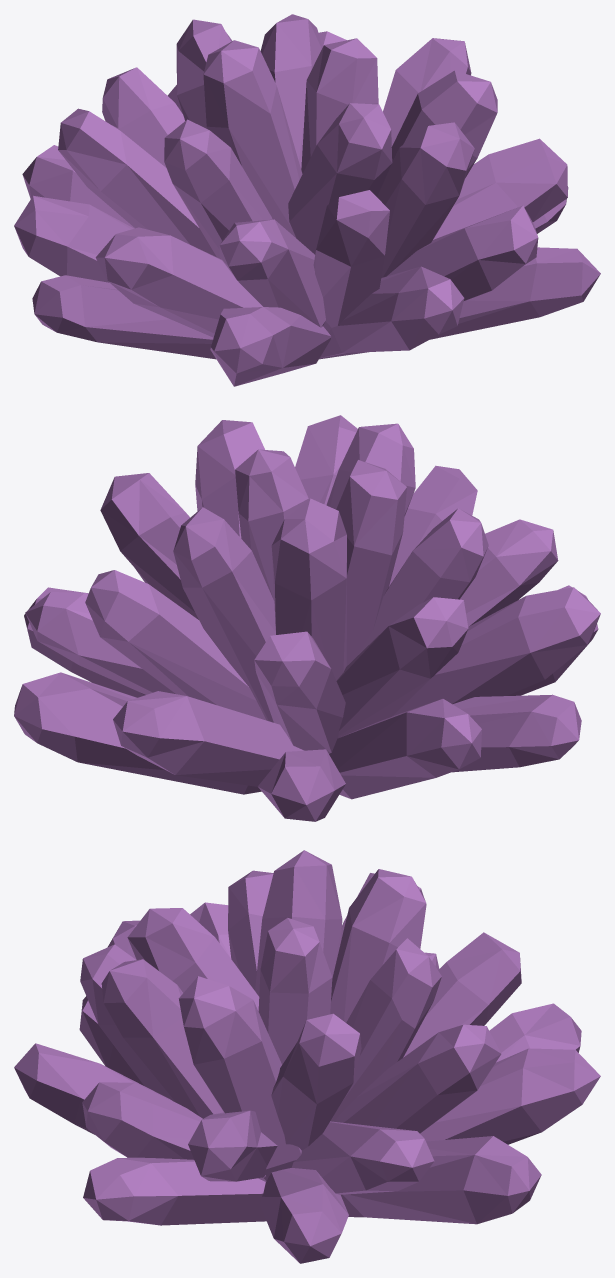
Rendered from Coral13.fbx.
3 renders of one model, top to bottom at view 1: azimuth 30°, elevation 25°; view 2: azimuth 150°, elevation 25°; view 3: azimuth 270°, elevation 25°, orthographic. The views are drawn at different scales.
Visible parts, largest first — view 1: Coral13; view 2: Coral13; view 3: Coral13.
Part boxes in pixels (x1,y1,x2,y2): Coral13: (14, 14, 600, 386); Coral13: (14, 415, 600, 821); Coral13: (14, 850, 600, 1263).
Size of the model in its own units: 1.36 by 0.7874 by 1.28.
